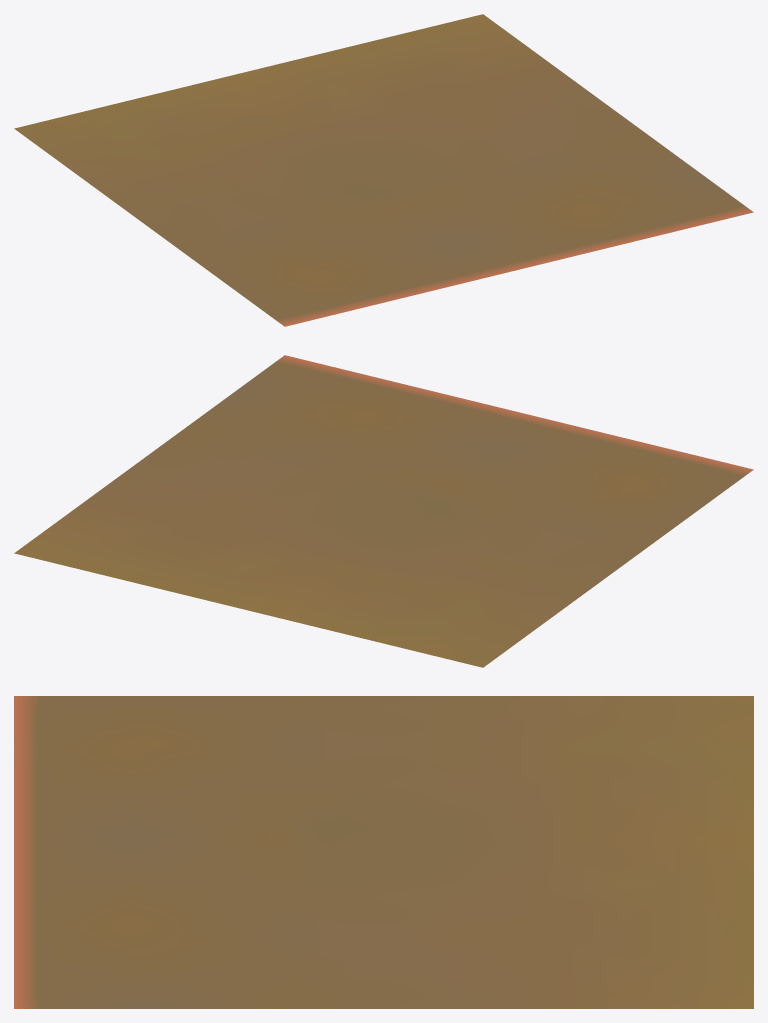
The model's file is Floor #1209102.fbx.
The picture shows the model from 3 angles, top to bottom: view 1: azimuth 30°, elevation 25°; view 2: azimuth 150°, elevation 25°; view 3: azimuth 270°, elevation 25°; orthographic projection. The views are drawn at different scales.
Visible parts, largest first — view 1: Floor; view 2: Floor; view 3: Floor.
Boxes of the visible parts, <box> form: Floor: <box>14,14,753,326</box>; Floor: <box>14,355,753,667</box>; Floor: <box>14,696,753,1008</box>.
Size of the model in its own units: 2200 by 9.62e-05 by 2200.
